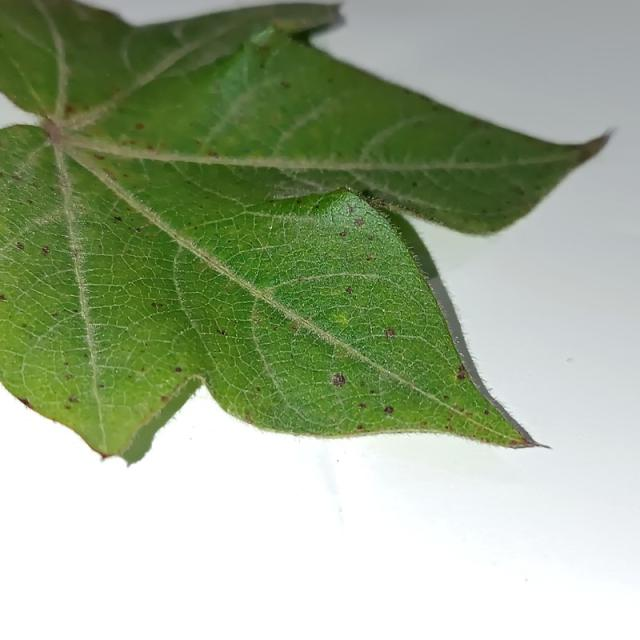Bacterial_Blight: (41, 120, 67, 148), (330, 372, 347, 387), (39, 241, 51, 259), (521, 437, 539, 448), (17, 396, 32, 409), (99, 451, 113, 461), (289, 321, 300, 332), (354, 217, 365, 227), (258, 44, 270, 53), (375, 199, 388, 207), (386, 327, 396, 337), (515, 186, 525, 196), (383, 405, 394, 414), (65, 105, 76, 114), (457, 363, 466, 373), (244, 409, 253, 419), (280, 81, 291, 89), (151, 302, 163, 309), (209, 150, 219, 158), (456, 373, 466, 381), (135, 122, 145, 130), (68, 396, 79, 403), (508, 439, 519, 446), (347, 205, 355, 214), (16, 242, 25, 250), (12, 174, 21, 182), (345, 286, 353, 294), (113, 215, 122, 222), (358, 402, 367, 409), (95, 154, 105, 160), (366, 254, 374, 261), (72, 250, 79, 258), (0, 294, 7, 302), (339, 230, 347, 237), (161, 396, 169, 403), (65, 374, 74, 380), (367, 234, 374, 241), (452, 402, 459, 409), (147, 144, 154, 151), (253, 317, 260, 324), (174, 367, 182, 373), (51, 311, 59, 317), (356, 424, 364, 430), (420, 420, 428, 426), (466, 412, 474, 418), (220, 329, 227, 335), (297, 276, 304, 282), (295, 199, 302, 205), (443, 394, 450, 400), (483, 409, 490, 415), (481, 208, 488, 214), (27, 199, 34, 205), (485, 139, 492, 145), (135, 227, 141, 233), (255, 386, 261, 392), (412, 181, 418, 187), (273, 325, 279, 331), (369, 389, 376, 394), (98, 384, 105, 389), (65, 405, 72, 410), (21, 323, 28, 328), (313, 204, 320, 209), (444, 425, 451, 430), (398, 349, 404, 354), (290, 353, 295, 359), (123, 173, 129, 178), (336, 425, 342, 430), (64, 361, 69, 366), (360, 381, 365, 386), (141, 366, 146, 371), (193, 226, 198, 230)
Cotton: (0, 0, 607, 462)
